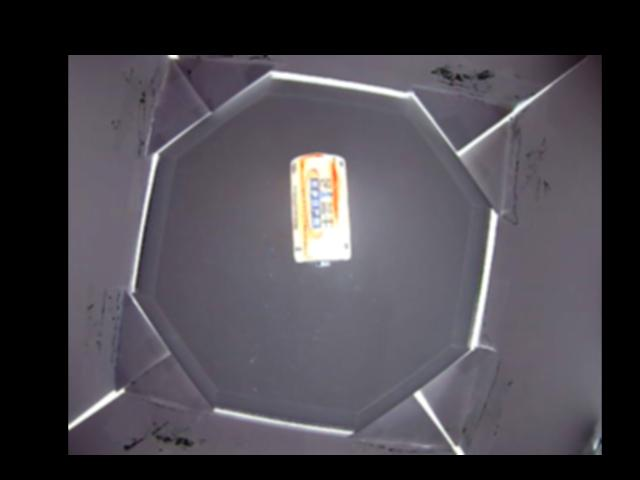Battery: (289, 153, 351, 267)
